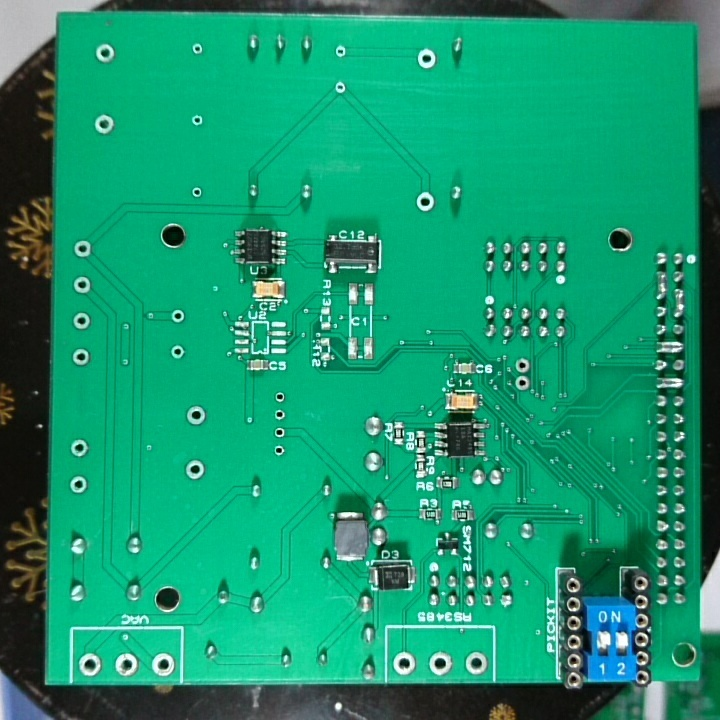F: (425, 649, 454, 678), (391, 649, 419, 678), (90, 110, 117, 138), (113, 651, 140, 678), (150, 652, 177, 678), (76, 652, 103, 678), (93, 40, 118, 65), (182, 403, 206, 428), (414, 190, 437, 215), (70, 309, 93, 334), (68, 346, 94, 368), (462, 649, 484, 675), (71, 273, 94, 297), (182, 458, 205, 482), (68, 437, 91, 460), (72, 237, 94, 261), (416, 46, 437, 71), (67, 474, 88, 495), (511, 374, 531, 394), (168, 307, 188, 327), (188, 110, 209, 129), (513, 355, 532, 375), (187, 183, 206, 203), (331, 42, 349, 62), (270, 423, 288, 443), (168, 342, 186, 361), (269, 440, 287, 459), (331, 78, 348, 98), (271, 388, 289, 406), (189, 39, 205, 59), (271, 406, 289, 423)
P: (652, 336, 687, 356), (653, 266, 671, 303), (652, 373, 685, 393), (671, 286, 688, 320)
